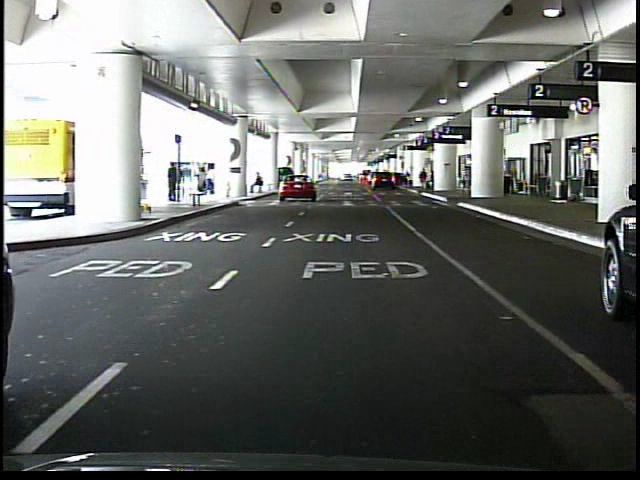person: (167, 162, 182, 205), (460, 164, 472, 196), (249, 172, 265, 196), (419, 167, 428, 192)
